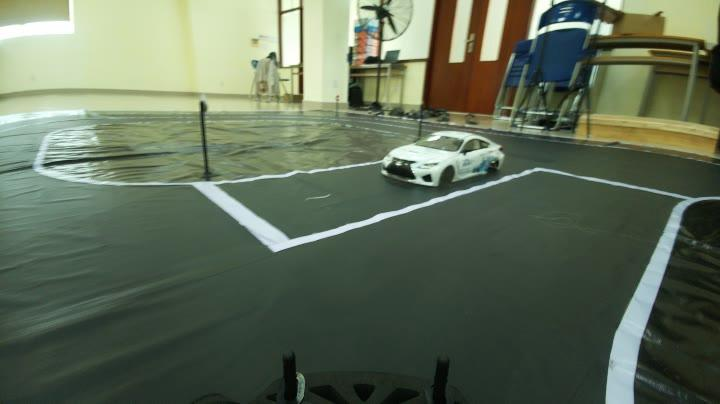car: (378, 125, 510, 189)
